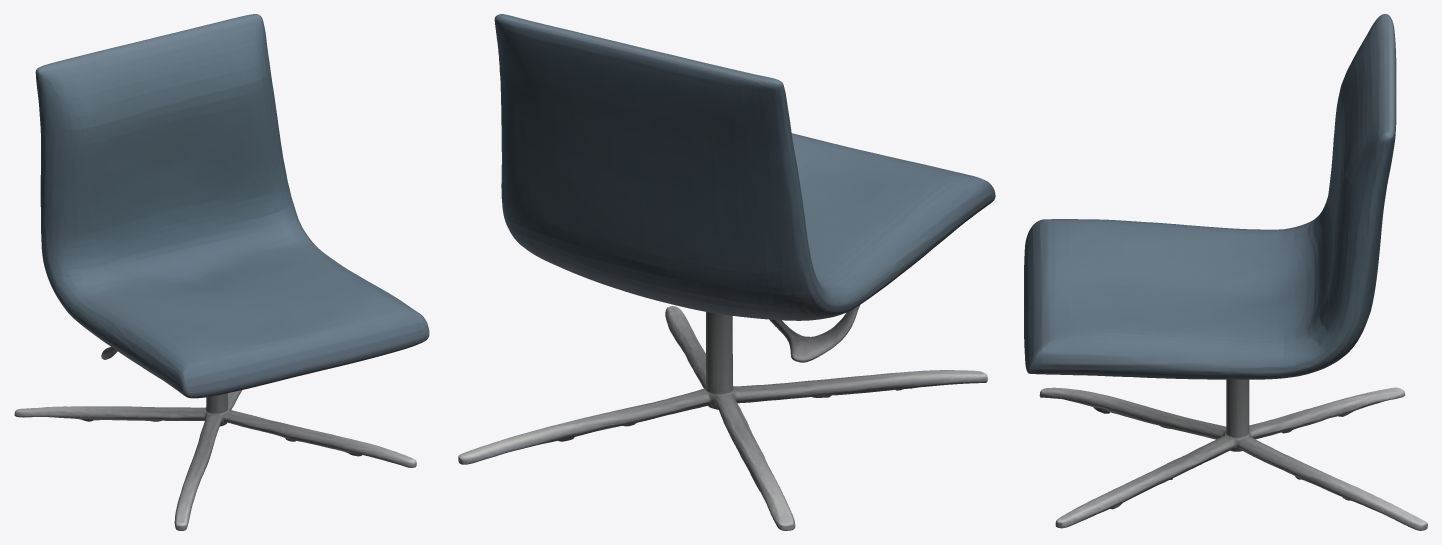
The model's file is multidiffusion_sam3d.glb.
3 views of the same model, side by side, from view 1: azimuth 30°, elevation 25°; view 2: azimuth 150°, elevation 25°; view 3: azimuth 270°, elevation 25° (orthographic). The views are drawn at different scales.
Visible parts, largest first — view 1: world; view 2: world; view 3: world.
Part boxes in pixels (bbox=[...]): world: bbox=[14, 14, 429, 530]; world: bbox=[458, 14, 995, 530]; world: bbox=[1024, 14, 1427, 530].
Bounding box in the file's own units: 0.7698 × 1 × 0.9417.
